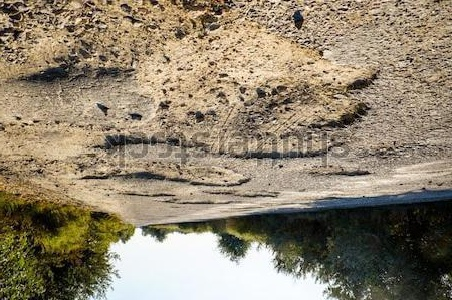pothole: (138, 0, 384, 162), (69, 156, 250, 190), (159, 185, 239, 206), (203, 187, 281, 200), (305, 164, 372, 179)
